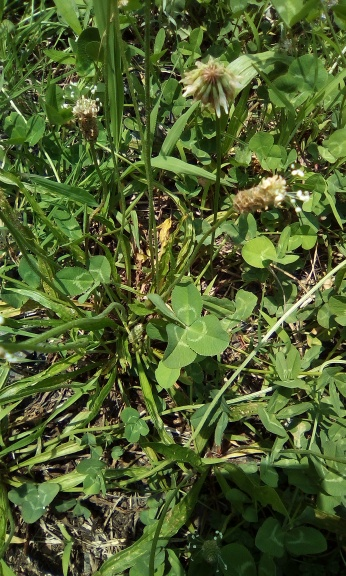4leaf: (146, 278, 230, 370)
